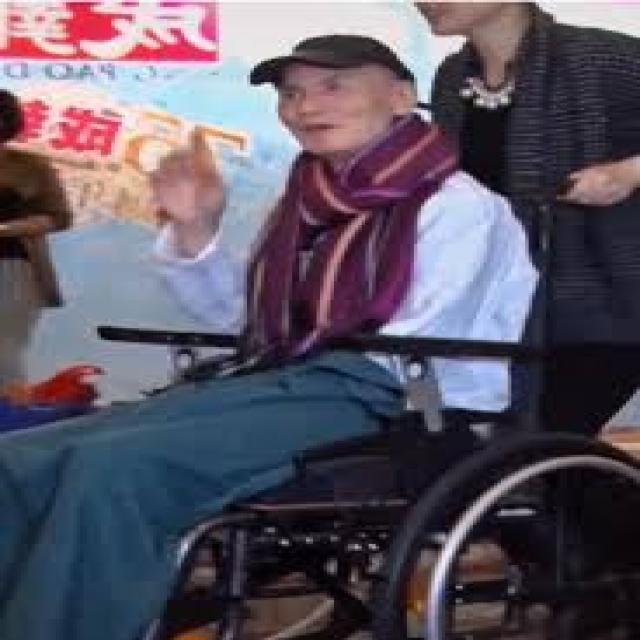wheelchairs: (118, 188, 637, 638)
